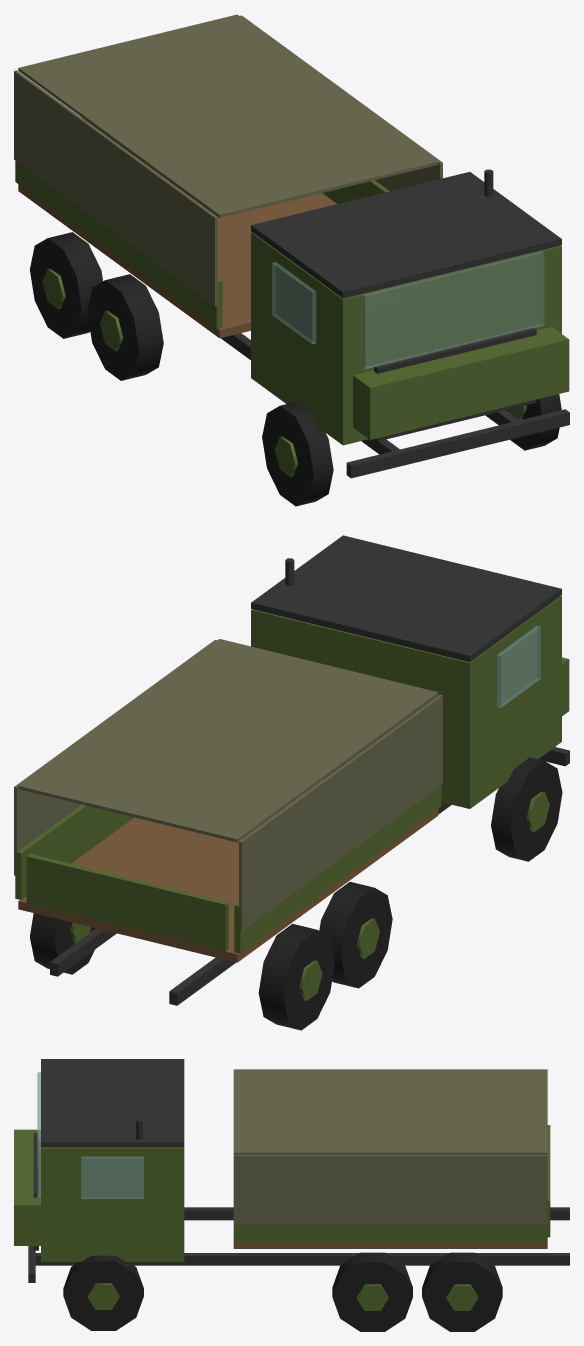
File: m35-truck.glb
3 views of the same model, one above another, from view 1: azimuth 30°, elevation 25°; view 2: azimuth 150°, elevation 25°; view 3: azimuth 270°, elevation 25° (orthographic). The views are drawn at different scales.
Parts seen in each view (by area): view 1: Mesh_CanvasTop, Mesh_Cab, Mesh_CabRoof, Mesh_CanvasSideL, Mesh_Hood, Mesh_Windshield, Mesh_BedFloor, Mesh_RearAxle1WheelL, Mesh_RearAxle2WheelL, Mesh_FrontWheelL, Mesh_BedSideL, Mesh_Bumper (+9 smaller); view 2: Mesh_CanvasTop, Mesh_Cab, Mesh_CabRoof, Mesh_CanvasSideL, Mesh_BedFloor, Mesh_Tailgate, Mesh_RearAxle2WheelL, Mesh_RearAxle1WheelL, Mesh_FrontWheelL, Mesh_BedSideL, Mesh_BedSideR, Mesh_CanvasSideR (+7 smaller); view 3: Mesh_CanvasTop, Mesh_CanvasSideR, Mesh_Cab, Mesh_CabRoof, Mesh_BedSideR, Mesh_RearAxle2WheelR, Mesh_RearAxle1WheelR, Mesh_FrontWheelR, Mesh_FrameRailR, Mesh_Hood, Mesh_WindowRight, Mesh_BedFloor (+7 smaller).
Part boxes in pixels (x1,y1,x2,y2): Mesh_CanvasTop: [18, 14, 438, 217]; Mesh_Cab: [251, 232, 561, 445]; Mesh_CabRoof: [251, 172, 561, 298]; Mesh_CanvasSideL: [14, 70, 217, 306]; Mesh_Hood: [353, 327, 569, 439]; Mesh_Windshield: [363, 251, 544, 369]; Mesh_BedFloor: [18, 155, 336, 338]; Mesh_RearAxle1WheelL: [87, 274, 163, 380]; Mesh_RearAxle2WheelL: [29, 232, 102, 338]; Mesh_FrontWheelL: [262, 402, 333, 506]; Mesh_BedSideL: [15, 161, 222, 329]; Mesh_Bumper: [346, 409, 569, 478]; Mesh_CanvasTop: [18, 639, 438, 842]; Mesh_Cab: [251, 596, 561, 808]; Mesh_CabRoof: [251, 535, 561, 662]; Mesh_CanvasSideL: [239, 694, 442, 930]; Mesh_BedFloor: [18, 779, 438, 962]; Mesh_Tailgate: [26, 854, 228, 951]; Mesh_RearAxle2WheelL: [258, 923, 335, 1030]; Mesh_RearAxle1WheelL: [319, 881, 392, 988]; Mesh_FrontWheelL: [491, 757, 562, 861]; Mesh_BedSideL: [234, 785, 441, 953]; Mesh_BedSideR: [15, 804, 133, 899]; Mesh_CanvasSideR: [14, 640, 216, 875]; Mesh_CanvasTop: [233, 1069, 547, 1154]; Mesh_CanvasSideR: [233, 1155, 547, 1224]; Mesh_Cab: [41, 1147, 184, 1261]; Mesh_CabRoof: [41, 1059, 184, 1147]; Mesh_BedSideR: [233, 1225, 547, 1242]; Mesh_RearAxle2WheelR: [422, 1252, 502, 1331]; Mesh_RearAxle1WheelR: [332, 1252, 412, 1331]; Mesh_FrontWheelR: [63, 1255, 143, 1330]; Mesh_FrameRailR: [35, 1253, 569, 1265]; Mesh_Hood: [14, 1129, 40, 1245]; Mesh_WindowRight: [81, 1156, 143, 1198]; Mesh_BedFloor: [233, 1242, 547, 1248].
Bounding box in the file's own units: 2.61 × 2.48 × 6.2.
